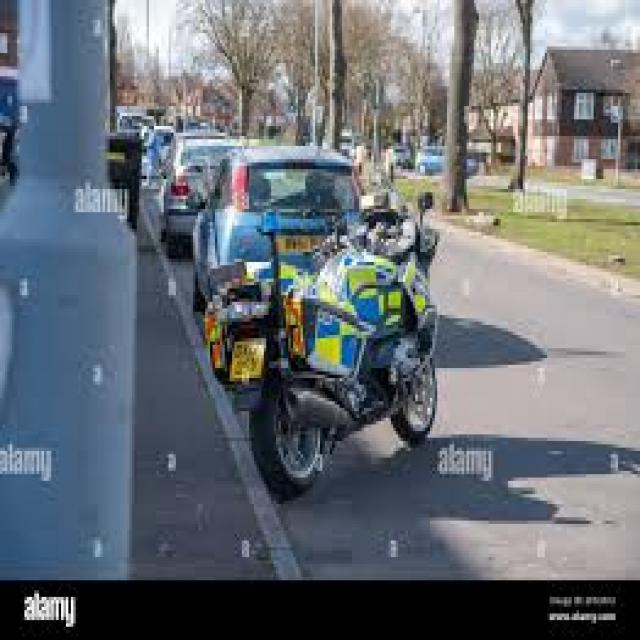Bike: (203, 188, 441, 500)
